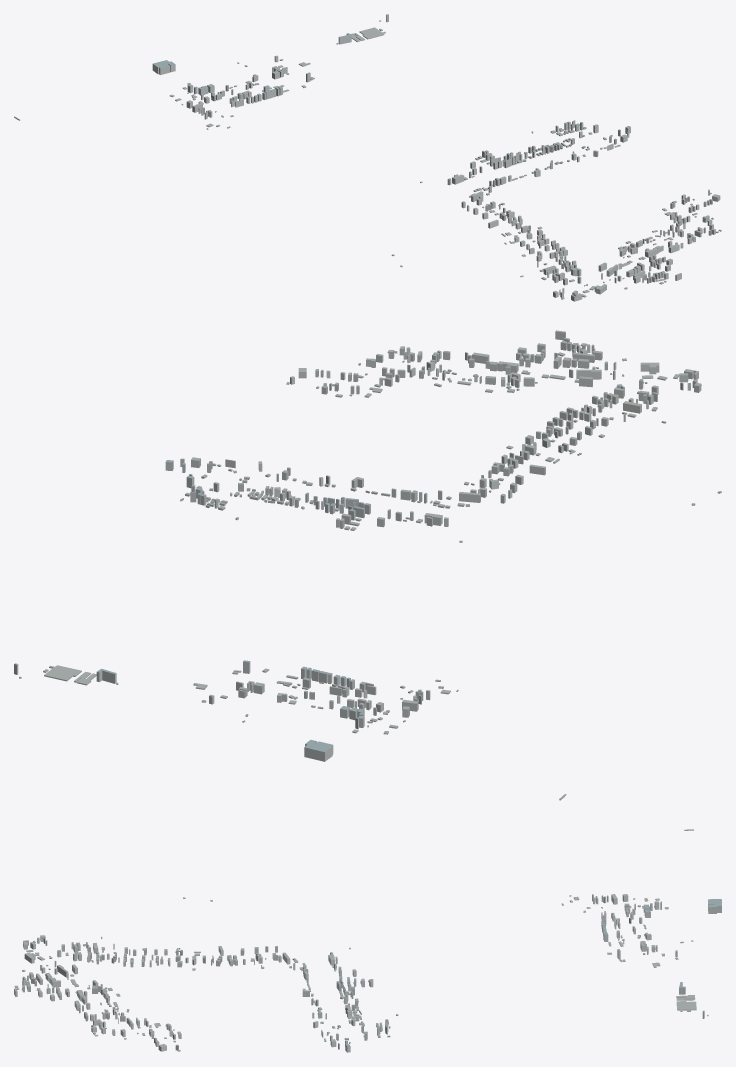
The model's file is far.glb.
The picture shows the model from 3 angles, top to bottom: view 1: azimuth 30°, elevation 25°; view 2: azimuth 150°, elevation 25°; view 3: azimuth 270°, elevation 25°; orthographic projection. The views are drawn at different scales.
Bounding box in the file's own units: 1429 × 24.9 × 1921.
